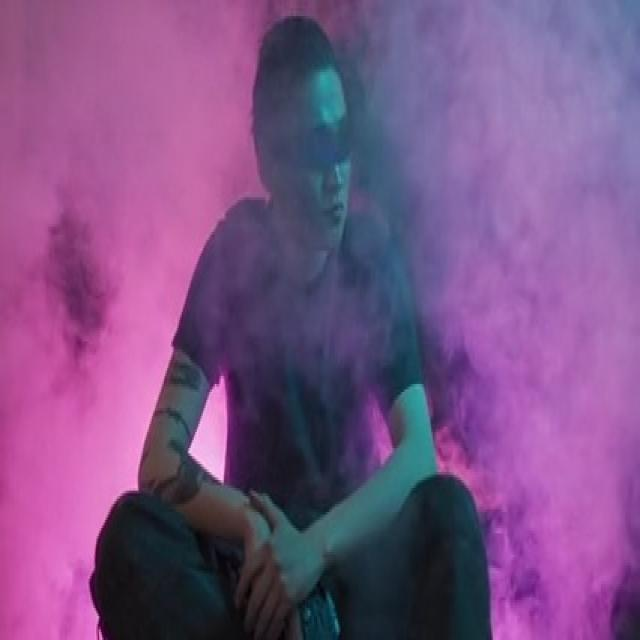Gun_Holder: (239, 501, 364, 640)
Person: (98, 0, 496, 640)
